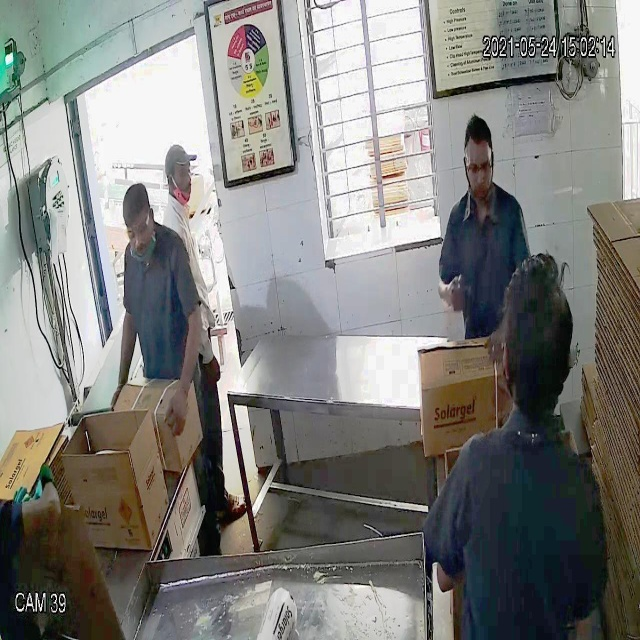Gafas: (458, 148, 500, 183), (119, 211, 155, 244)
Sin_gafas: (166, 164, 195, 187)
